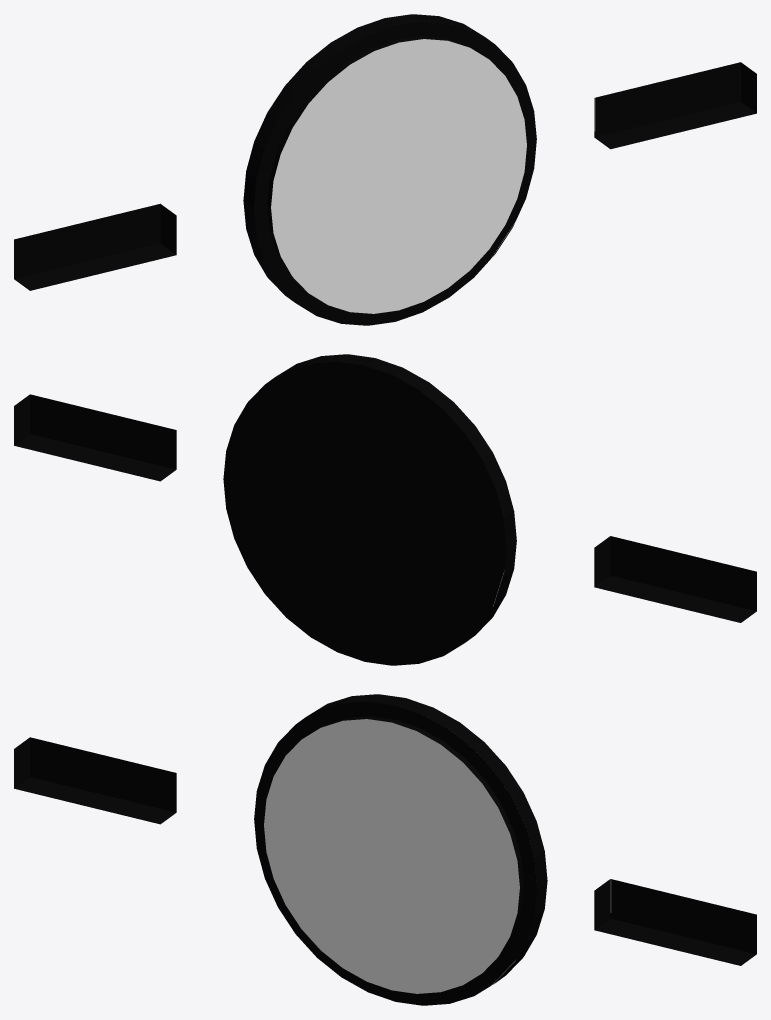
File: cont_UI.obj
The picture shows the model from 3 angles, top to bottom: view 1: azimuth 30°, elevation 25°; view 2: azimuth 150°, elevation 25°; view 3: azimuth 330°, elevation 25°; orthographic projection.
Visible parts, largest first — view 1: 円柱.001; view 2: 円柱.001; view 3: 円柱.001.
Boxes of the visible parts, left/top/right/bottom form: 円柱.001: left=14, top=14, right=756, bottom=325; 円柱.001: left=14, top=354, right=756, bottom=665; 円柱.001: left=14, top=694, right=756, bottom=1005.
Bounding box in the file's own units: 2.89 × 1.13 × 0.148.
1 material, 1 textured.
